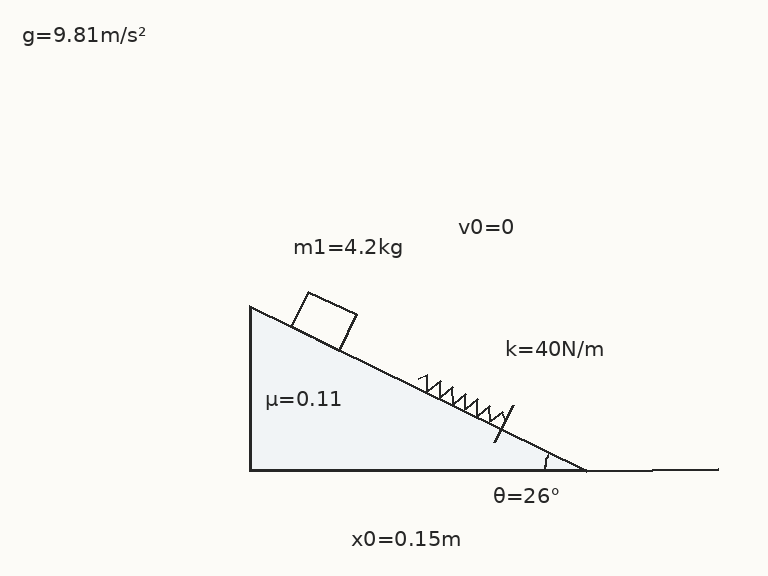block: (289, 289, 358, 352)
ramp: (248, 304, 587, 472)
spring: (416, 373, 507, 423)
